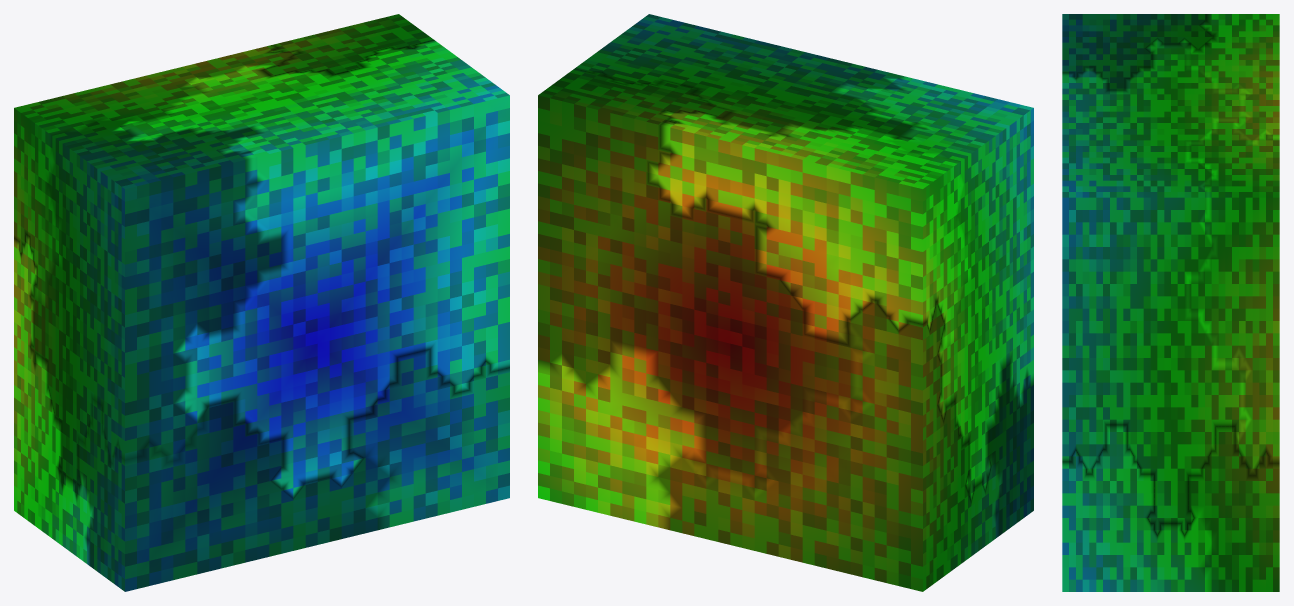
Rendered from cuboid_10x10x5.obj.
3 views of the same model, side by side, from view 1: azimuth 30°, elevation 25°; view 2: azimuth 150°, elevation 25°; view 3: azimuth 270°, elevation 25° (orthographic). The views are drawn at different scales.
Size of the model in its own units: 10 by 10 by 5.
